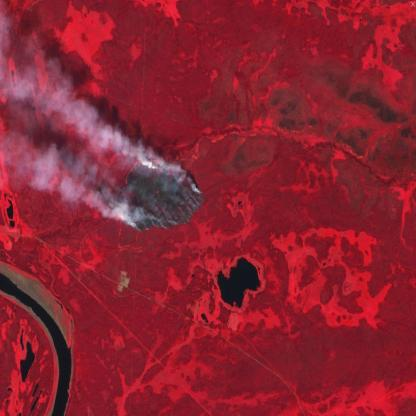fire: (116, 155, 205, 232)
